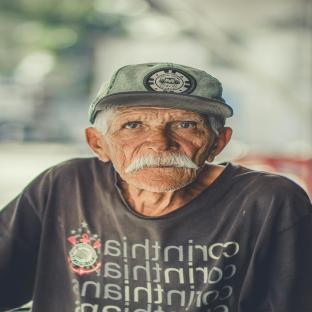Human: (0, 62, 312, 312)
